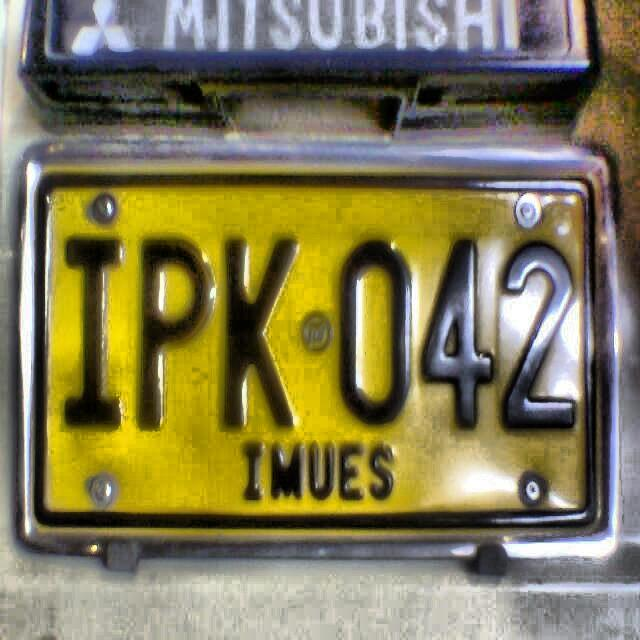plate: (14, 138, 619, 560)
